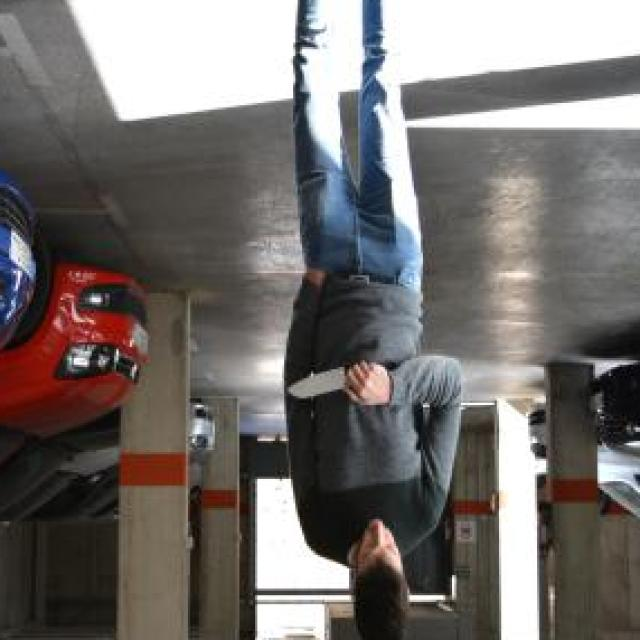knife: (283, 363, 356, 405)
